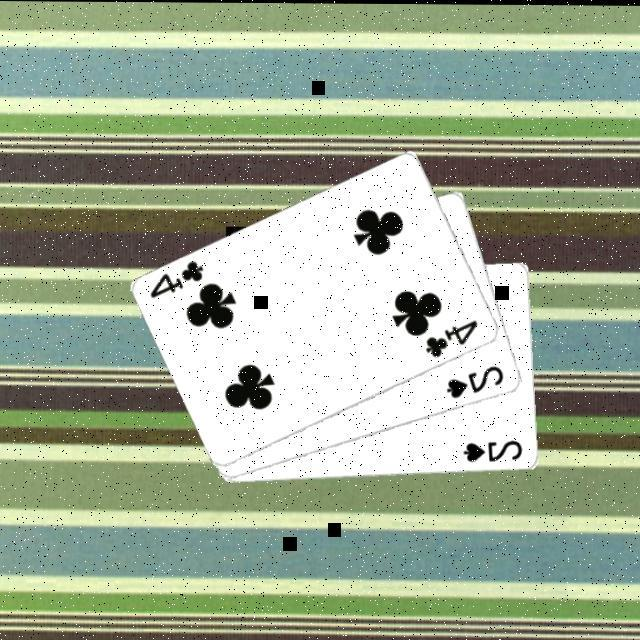2S: (442, 361, 506, 398), (459, 434, 525, 462)
4C: (146, 255, 206, 299), (422, 314, 480, 358)
